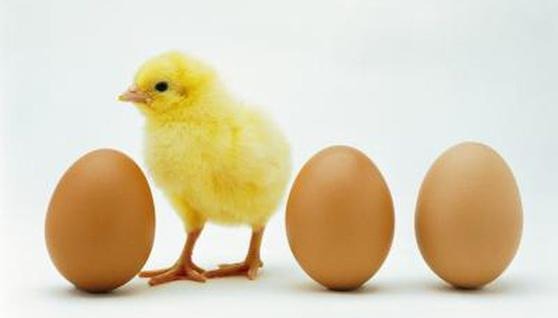egg: (411, 141, 526, 294), (39, 146, 155, 295), (287, 145, 394, 295)
